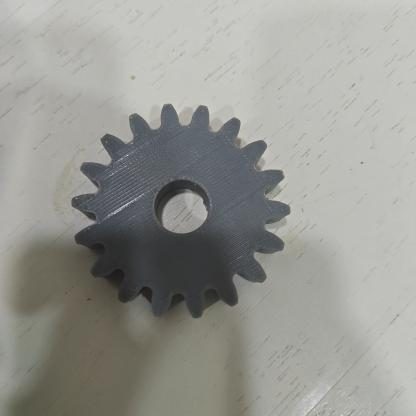gear: (72, 104, 290, 318)
